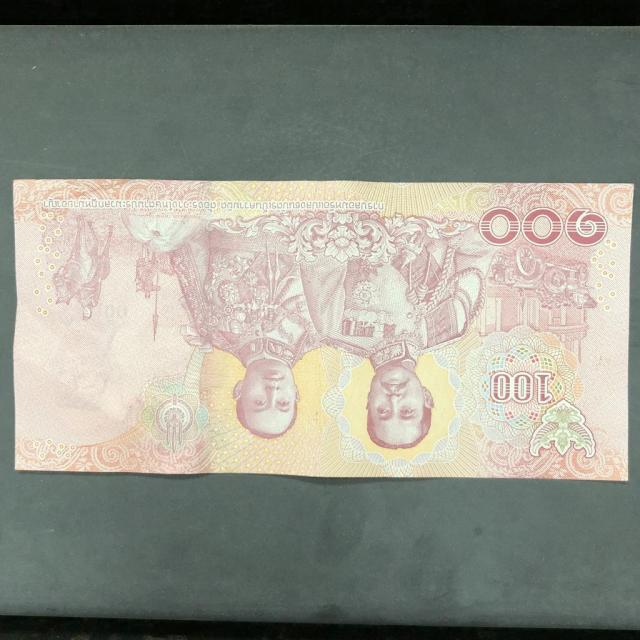THAI100: (11, 180, 634, 485)
